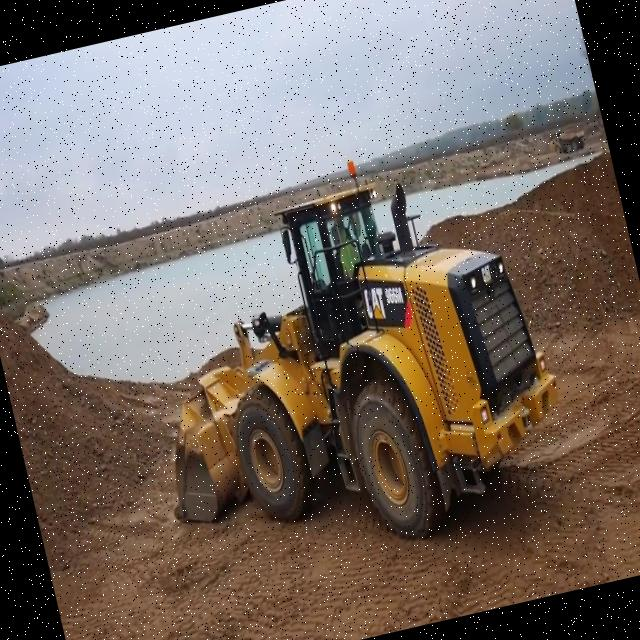Dump Truck: (544, 122, 587, 158)
Loader: (103, 124, 588, 594)
